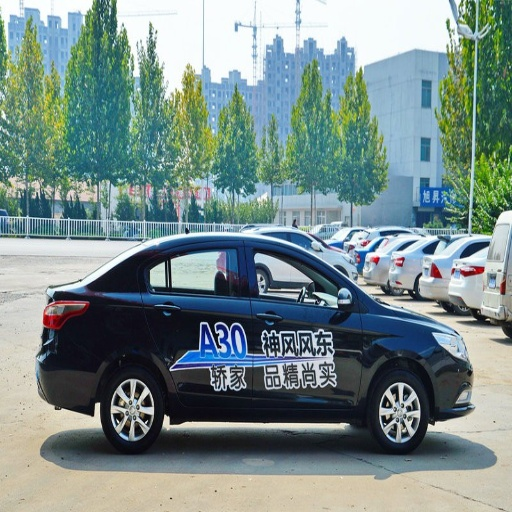back_right_door: (143, 237, 251, 396)
front_right_door: (245, 238, 361, 398)
